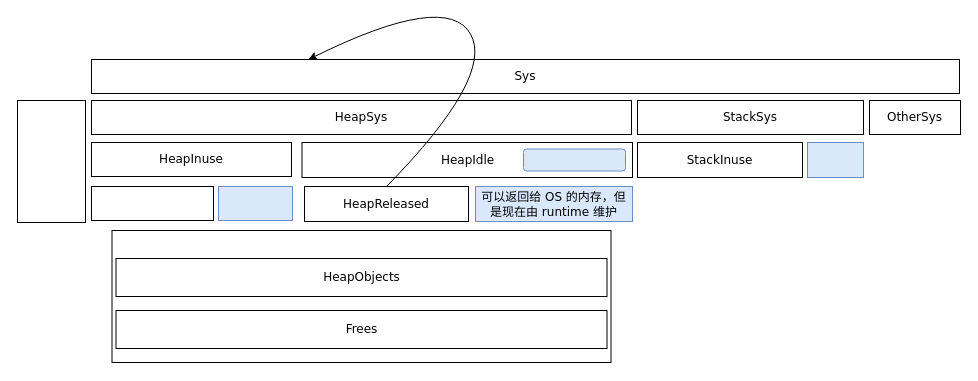
Some shapes in this 978 by 381 pixel diagram are drawn without their labels. The shapes that lost their labels are listed below. From the top down, each one's box as (x1, y1, x2, y2) in pixels, then its label:
(16, 100, 86, 222): TotalAlloc
(522, 148, 626, 171): 包含 StackIdle
(806, 142, 864, 178): 线程栈使用
(90, 186, 214, 220): Alloc/HeapAlloc
(218, 186, 292, 220): 特定类使用
(111, 230, 611, 362): Malloc
